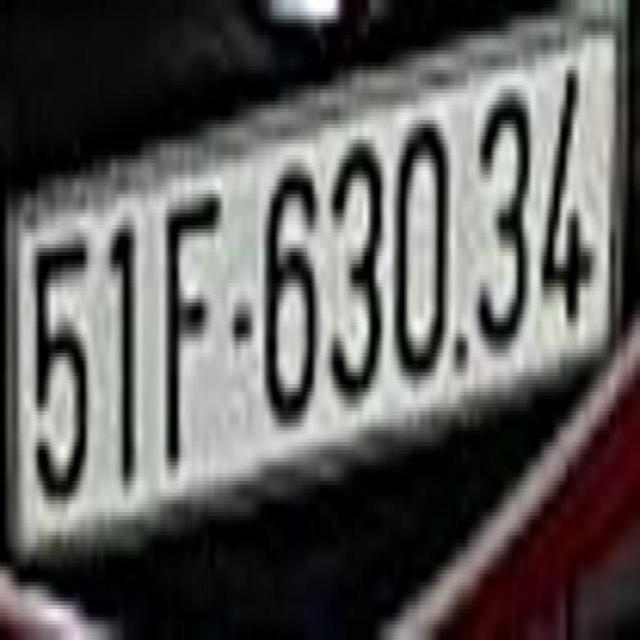0: (401, 116, 448, 368)
1: (111, 217, 138, 481)
3: (482, 78, 530, 354), (330, 136, 379, 384)
4: (542, 66, 586, 337)
5: (37, 232, 86, 504)
6: (268, 155, 316, 442)
F: (167, 182, 221, 477)
